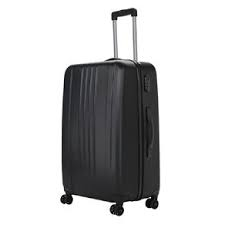suitcase: (56, 8, 163, 215)
